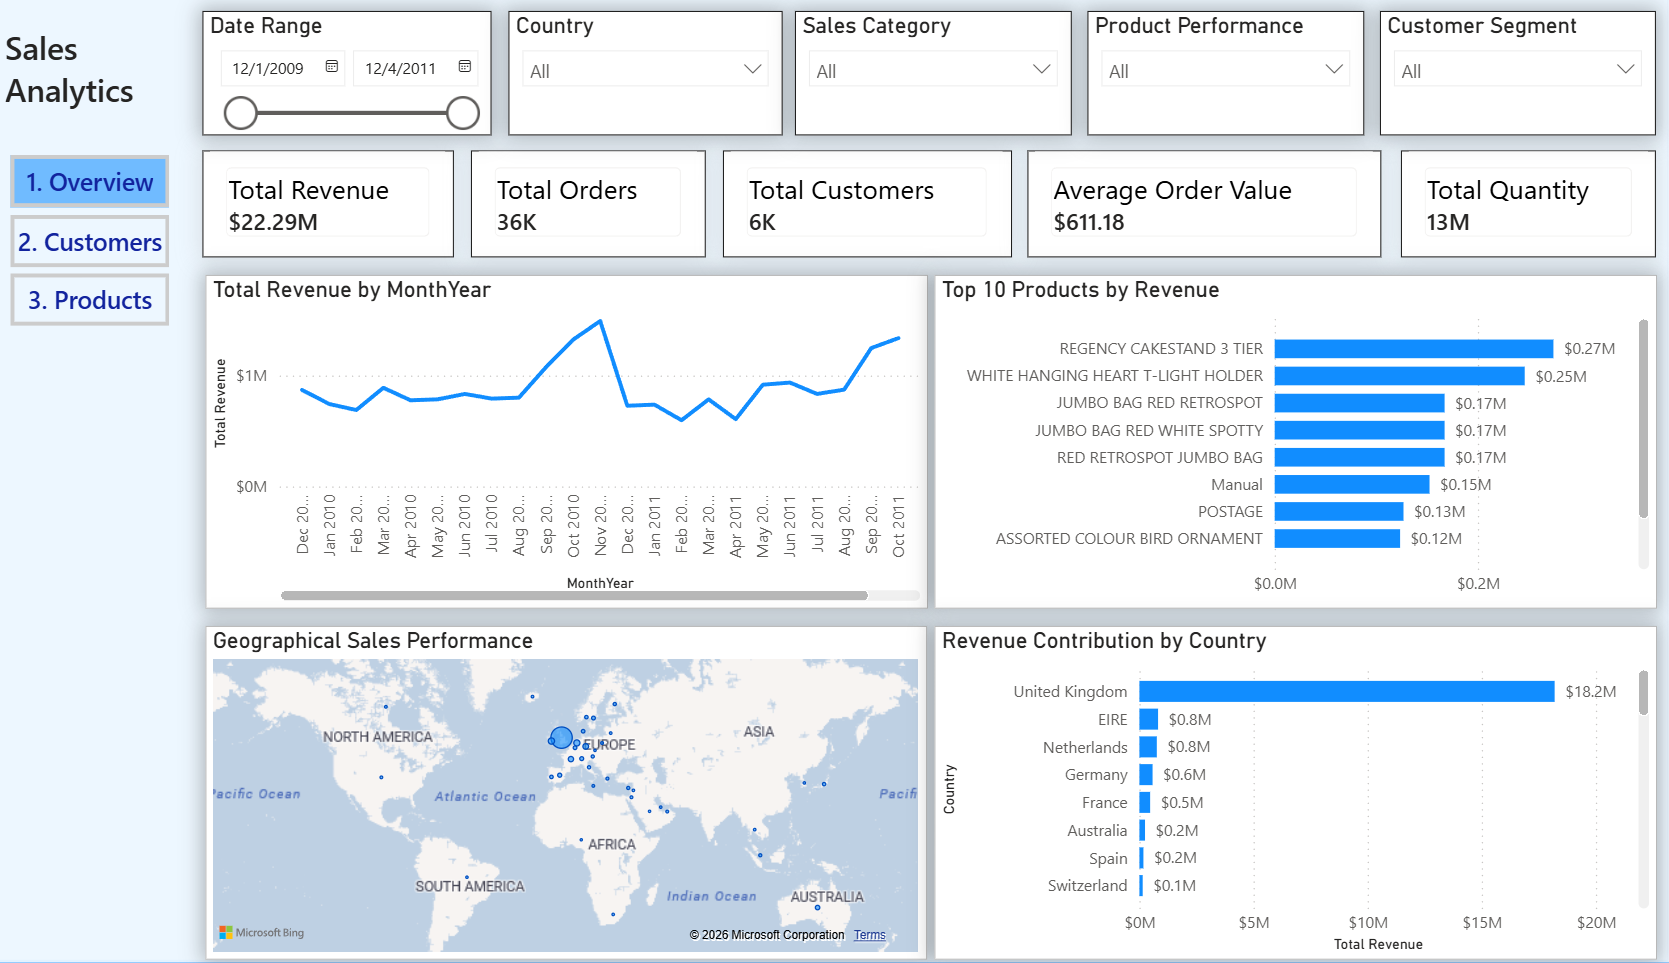

The page's visual inventory and layout, read from the dashboard file:
{"tool":"powerbi","page":{"name":"Overview","canvas":[1280,740],"ordinal":0},"visuals":[{"type":"shape","box":[0,0,1279.3,736.1],"z":0},{"type":"cardVisual","fields":{"Data":["Measure.Total Revenue"]},"box":[161.5,118,191,81],"z":1000},{"type":"cardVisual","fields":{"Data":["Measure.Total Orders"]},"box":[365.3,118,178.6,81],"z":2000},{"type":"cardVisual","fields":{"Data":["Measure.Total Customers"]},"box":[557.2,118,219.8,81],"z":3000},{"type":"cardVisual","fields":{"Data":["Measure.Total Quantity"]},"box":[1073.2,118,194,81],"z":4000},{"type":"cardVisual","fields":{"Data":["Measure.Average Order Value"]},"box":[789.7,118,269.6,81],"z":5000},{"type":"textbox","box":[5.2,17.2,139.1,79],"z":6000},{"type":"lineChart","fields":{"Category":["dim_date.MonthYear"],"Y":["Measure.Total Revenue"]},"box":[163.4,212.4,550,254],"z":7000},{"type":"map","title":"Geographical Sales Performance","fields":{"Category":["dim_customer.Country"],"Size":["Measure.Total Revenue"]},"box":[163.4,480.2,549.4,254],"z":8000},{"type":"clusteredBarChart","title":"Top 10 Products by Revenue","fields":{"Category":["dim_product.Description"],"Y":["Measure.Total Revenue"]},"box":[718.8,212.4,550,254],"z":9000},{"type":"barChart","title":"Revenue Contribution by Country","fields":{"Category":["dim_customer.Country"],"Y":["Measure.Total Revenue"]},"box":[718.8,480.2,550,254],"z":10000},{"type":"actionButton","box":[15,120.8,120.9,39.7],"z":11000},{"type":"actionButton","box":[15,166.2,120.9,39.7],"z":12000},{"type":"actionButton","box":[15,211.6,120.9,39.7],"z":13000},{"type":"slicer","title":"Date Range","fields":{"Values":["dim_date.Date"]},"box":[161.5,11,220,94.5],"z":14000},{"type":"slicer","title":"Country","fields":{"Values":["dim_customer.Country"]},"box":[393.8,11.8,208.7,94.5],"z":15000},{"type":"slicer","title":"Sales Category","fields":{"Values":["fact_sales.SalesCategory"]},"box":[612.4,11.8,210.7,94.5],"z":16000},{"type":"slicer","title":"Product Performance","fields":{"Values":["dim_product.ProductPerformance"]},"box":[835,11.8,210.7,94.5],"z":17000},{"type":"slicer","title":"Customer Segment","fields":{"Values":["dim_customer.CustomerSegment"]},"box":[1057.5,11.8,210,94.5],"z":18000}]}

Visuals, with their boxes in screenshot pixels (x1, y1, x2, y2), scaled from the page's 1280x740 canvas onto the 1669x963 screenshot:
shape: bbox(0, 0, 1668, 958)
cardVisual - Measure.Total Revenue: bbox(211, 154, 460, 259)
cardVisual - Measure.Total Orders: bbox(476, 154, 709, 259)
cardVisual - Measure.Total Customers: bbox(727, 154, 1013, 259)
cardVisual - Measure.Total Quantity: bbox(1399, 154, 1652, 259)
cardVisual - Measure.Average Order Value: bbox(1030, 154, 1381, 259)
textbox: bbox(7, 22, 188, 125)
lineChart - dim_date.MonthYear x Measure.Total Revenue: bbox(213, 276, 930, 607)
"Geographical Sales Performance" map: bbox(213, 625, 929, 955)
"Top 10 Products by Revenue" clusteredBarChart: bbox(937, 276, 1654, 607)
"Revenue Contribution by Country" barChart: bbox(937, 625, 1654, 955)
actionButton: bbox(20, 157, 177, 209)
actionButton: bbox(20, 216, 177, 268)
actionButton: bbox(20, 275, 177, 327)
"Date Range" slicer: bbox(211, 14, 497, 137)
"Country" slicer: bbox(513, 15, 786, 138)
"Sales Category" slicer: bbox(799, 15, 1073, 138)
"Product Performance" slicer: bbox(1089, 15, 1363, 138)
"Customer Segment" slicer: bbox(1379, 15, 1653, 138)
